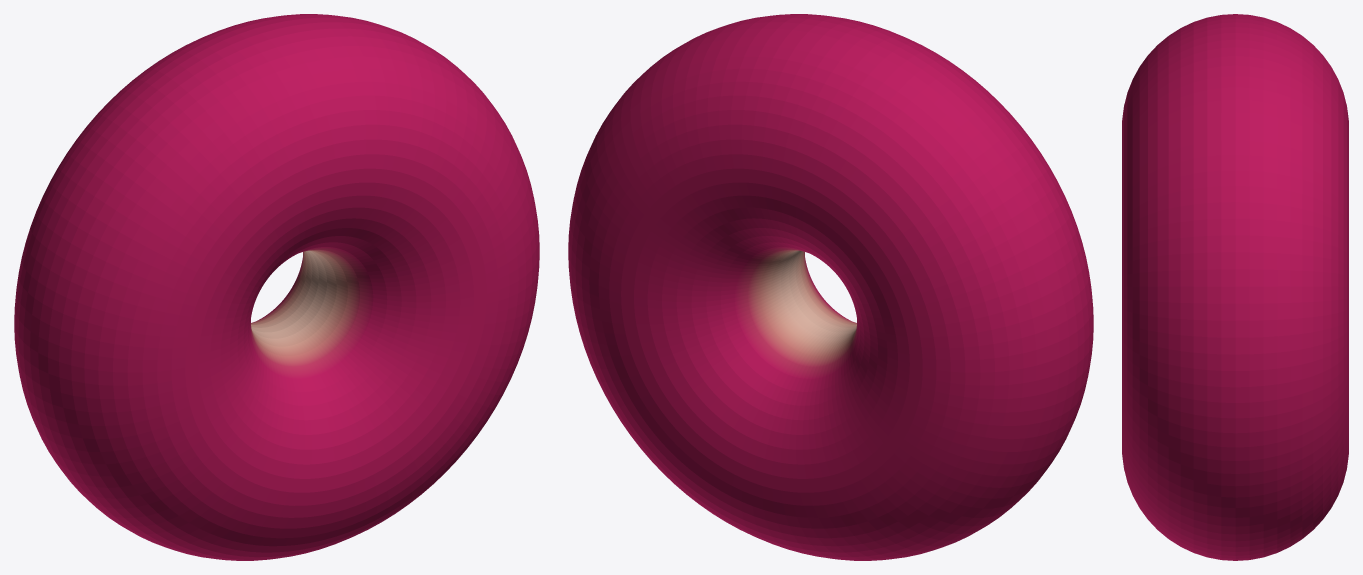
3 views of the same model, side by side, from view 1: azimuth 30°, elevation 25°; view 2: azimuth 150°, elevation 25°; view 3: azimuth 270°, elevation 25° (orthographic). The views are drawn at different scales.
Visible parts, largest first — view 1: world; view 2: world; view 3: world.
Boxes of the visible parts, x1,y1,x2,y2 form: world: (14,14,539,560); world: (568,14,1093,560); world: (1122,14,1348,560).
Size of the model in its own units: 22.8 by 22.8 by 9.45.
